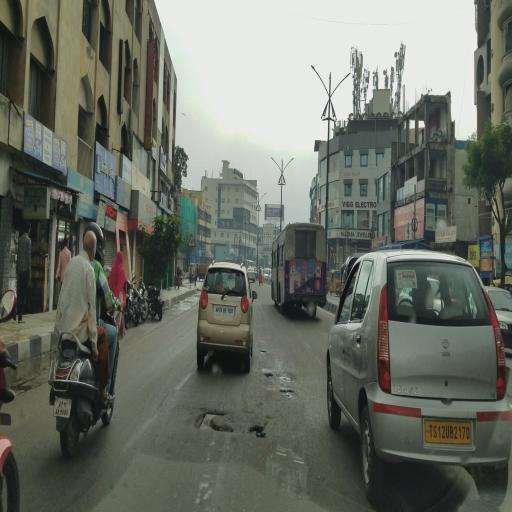street_light_0: (330, 66, 354, 114), (305, 63, 329, 111), (280, 156, 296, 188), (266, 153, 282, 184)
